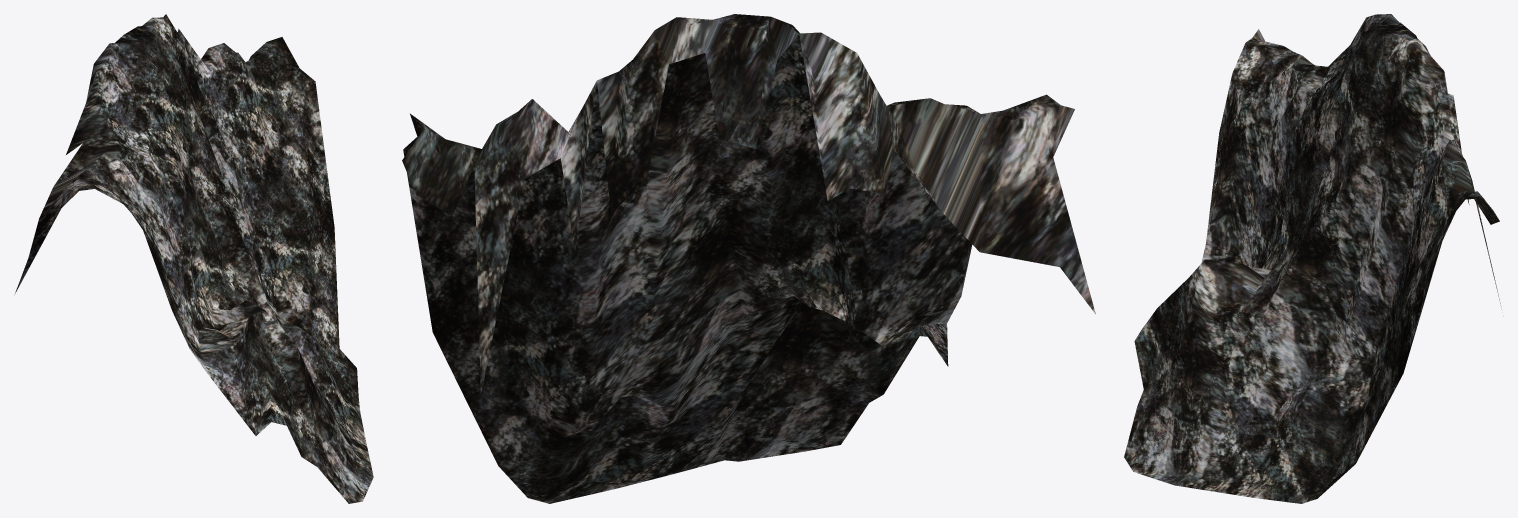
The model's file is OVERHILL_A_01_MOUN1_OBJECT153.fbx.
The picture shows the model from 3 angles, left to right: view 1: azimuth 30°, elevation 25°; view 2: azimuth 150°, elevation 25°; view 3: azimuth 270°, elevation 25°; orthographic projection. The views are drawn at different scales.
Parts seen in each view (by area): view 1: OVERHILL_A_01_MOUN1_OBJECT153; view 2: OVERHILL_A_01_MOUN1_OBJECT153; view 3: OVERHILL_A_01_MOUN1_OBJECT153.
Boxes of the visible parts, left/top/right/bottom form: OVERHILL_A_01_MOUN1_OBJECT153: left=14, top=14, right=373, bottom=503; OVERHILL_A_01_MOUN1_OBJECT153: left=402, top=14, right=1095, bottom=503; OVERHILL_A_01_MOUN1_OBJECT153: left=1124, top=14, right=1501, bottom=503.
Size of the model in its own units: 340250 by 344030 by 297487.
Materials: 1 (1 with a texture image).
